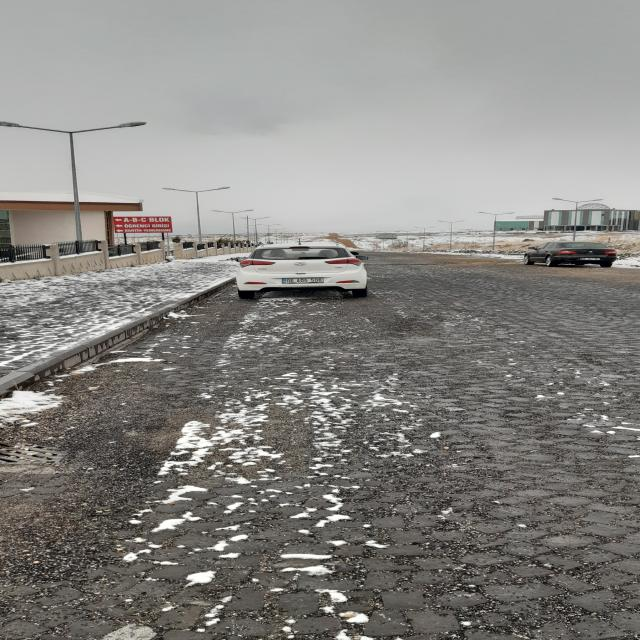plate: (281, 278, 324, 283), (579, 258, 601, 260)
